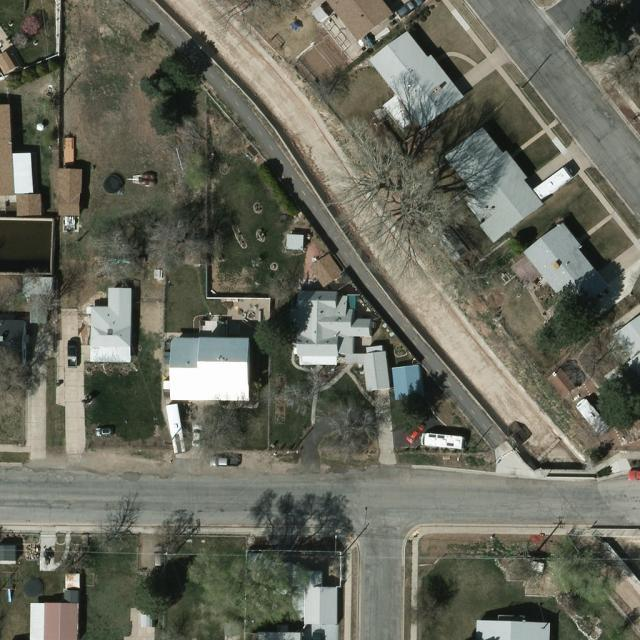vehicle: (404, 423, 428, 445), (396, 0, 424, 18), (209, 454, 243, 468), (191, 424, 204, 448), (68, 340, 78, 370), (153, 546, 166, 568), (92, 426, 114, 437), (164, 340, 174, 363)
